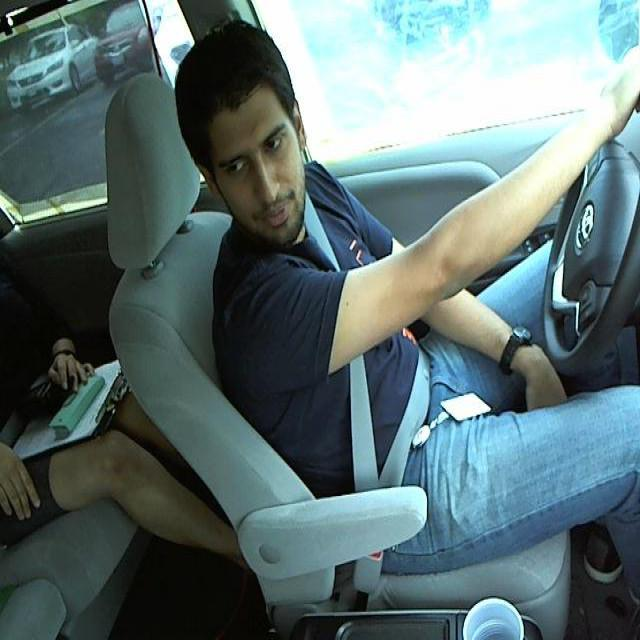seatbelt: (310, 219, 432, 476)
